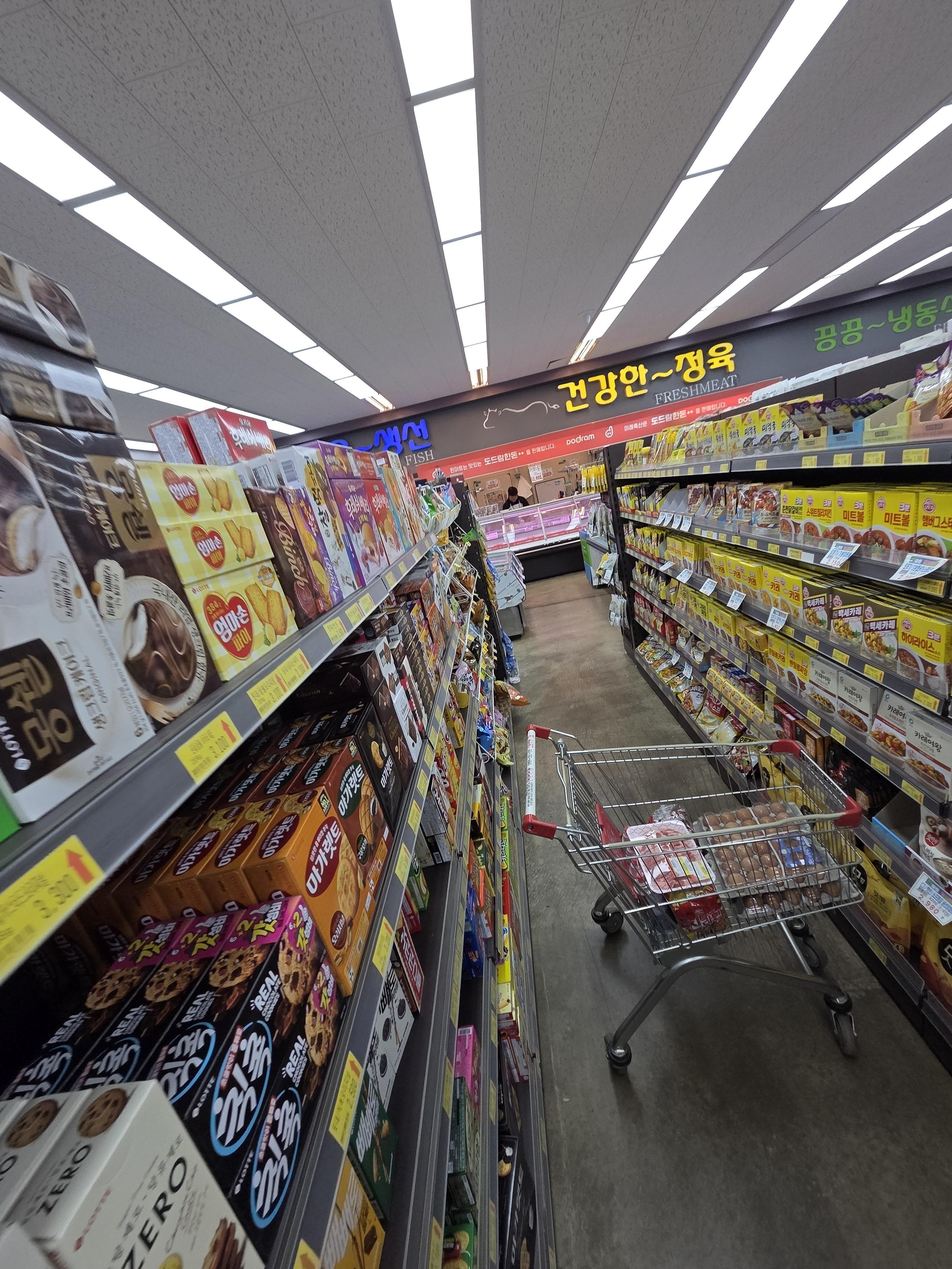fully_cart: (499, 721, 880, 1066)
